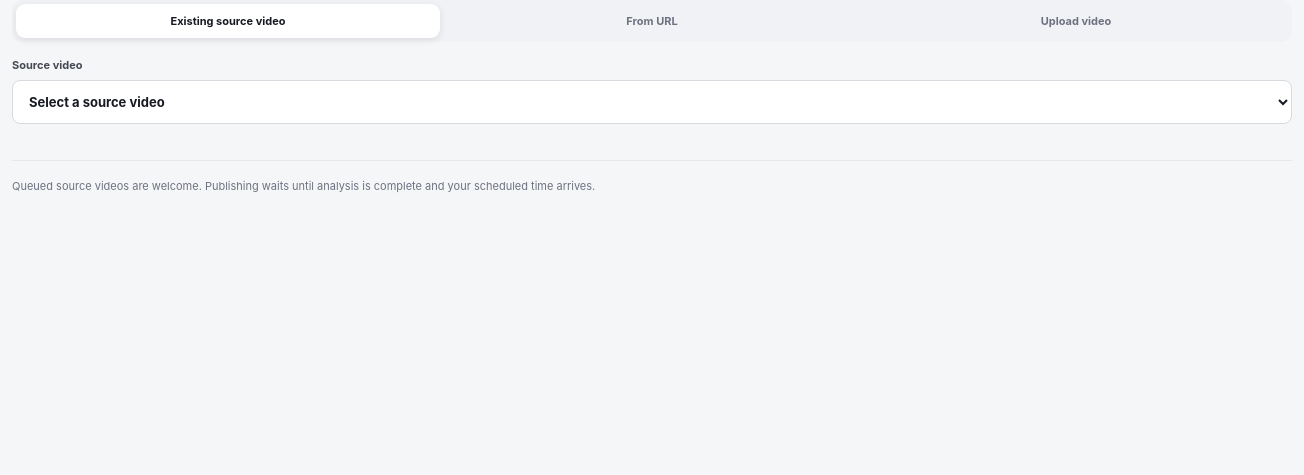
Scenario: automation source › creates a queued project from a URL and selects it without leaving the builder
The image size is (1304, 475).
Click the button "From URL" at (652, 21), box [440,4,864,38]
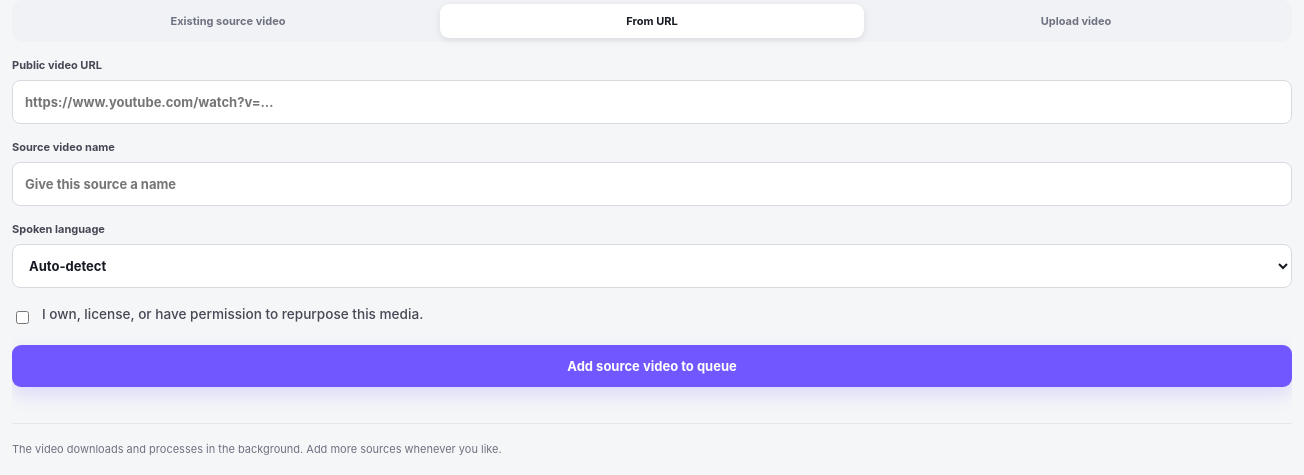
Type "https://youtube.com/watch?v=123" into the field labelled "Public video URL" at (652, 102), box [12,80,1292,124]
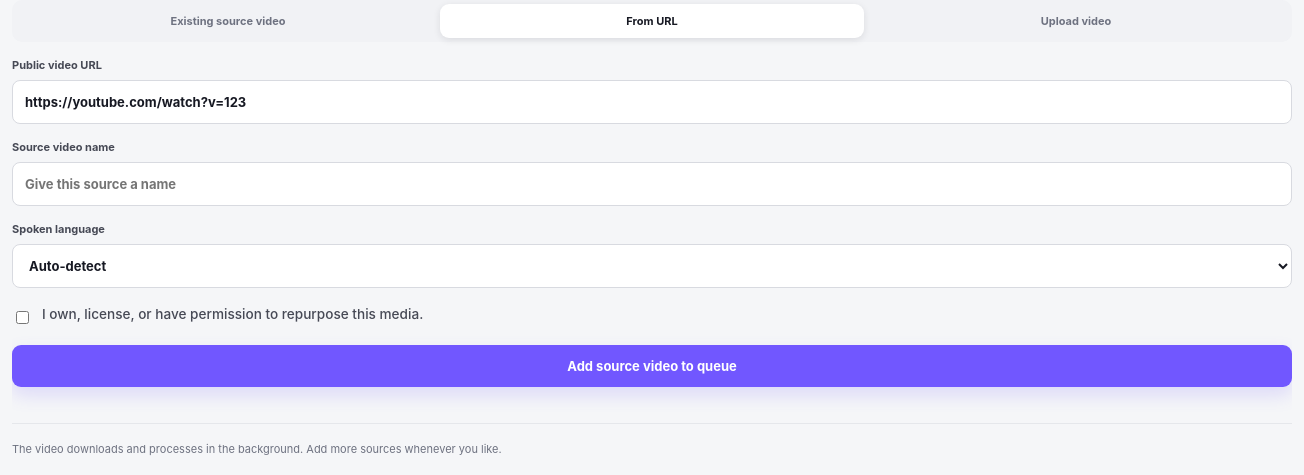
Type "Interview" into the field labelled "Source video name" at (652, 184), box [12,162,1292,206]
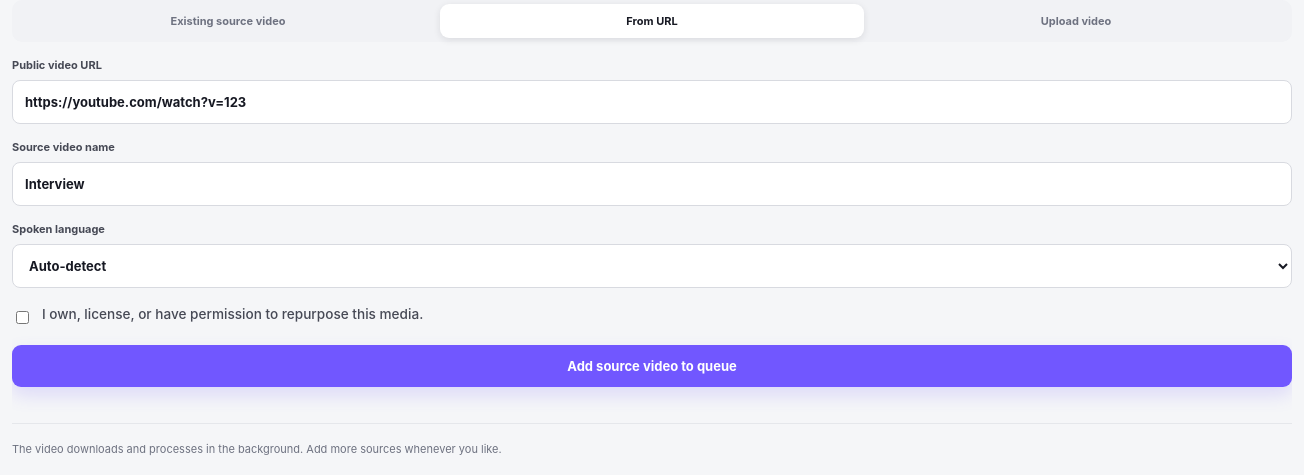
Click the checkbox at (22, 318), box [16,309,29,326]
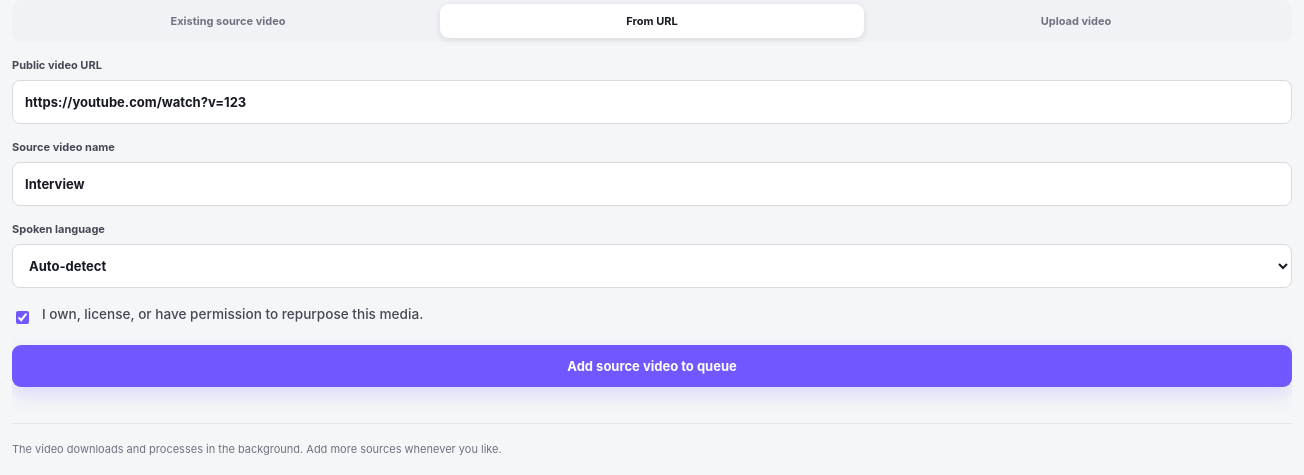
Submit the form named "Add source video to queue"
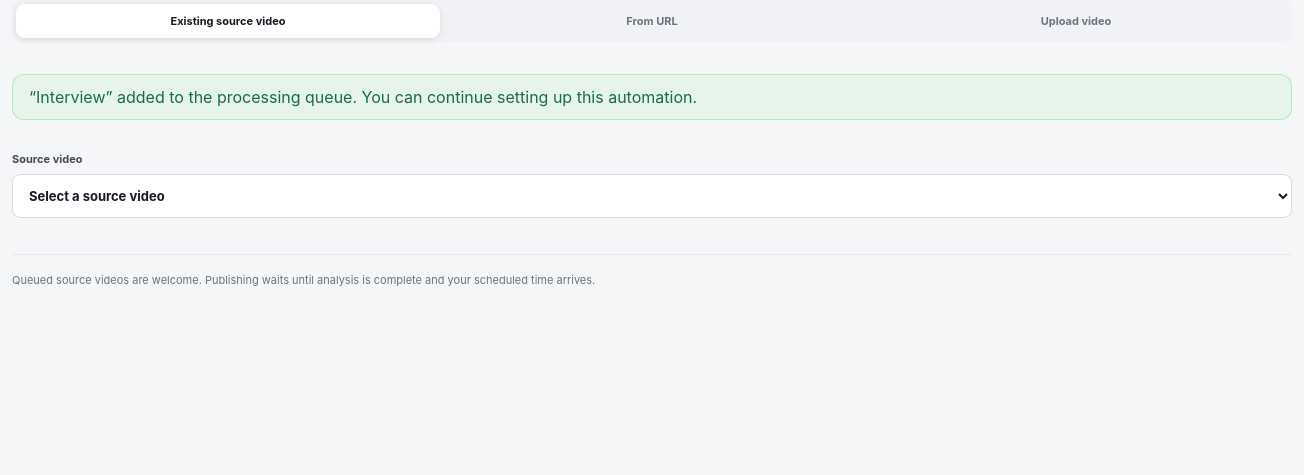
Check: the message shows "added to the processing queue", box [29,87,697,107]
